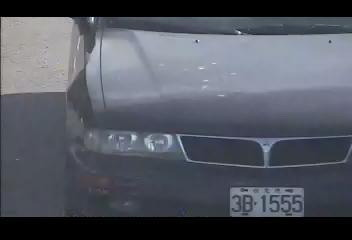plate: (229, 186, 305, 218)
